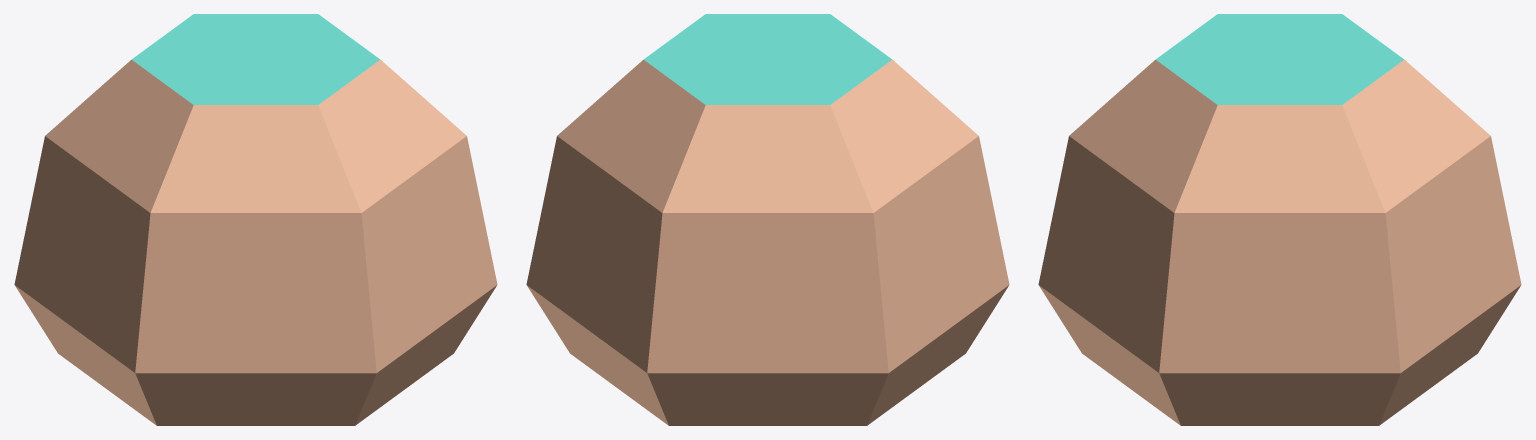
The picture shows the model from 3 angles, left to right: view 1: azimuth 30°, elevation 25°; view 2: azimuth 150°, elevation 25°; view 3: azimuth 270°, elevation 25°; orthographic projection.
Parts seen in each view (by area): view 1: rock_smallI; view 2: rock_smallI; view 3: rock_smallI.
Boxes of the visible parts, x1=… form: rock_smallI: x1=14, y1=14, x2=497, y2=425; rock_smallI: x1=526, y1=14, x2=1009, y2=425; rock_smallI: x1=1038, y1=14, x2=1521, y2=425.
Bounding box in the file's own units: 0.3583 × 0.2778 × 0.4138.
